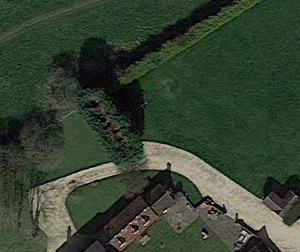tree: (12, 115, 69, 177), (42, 65, 78, 115)
